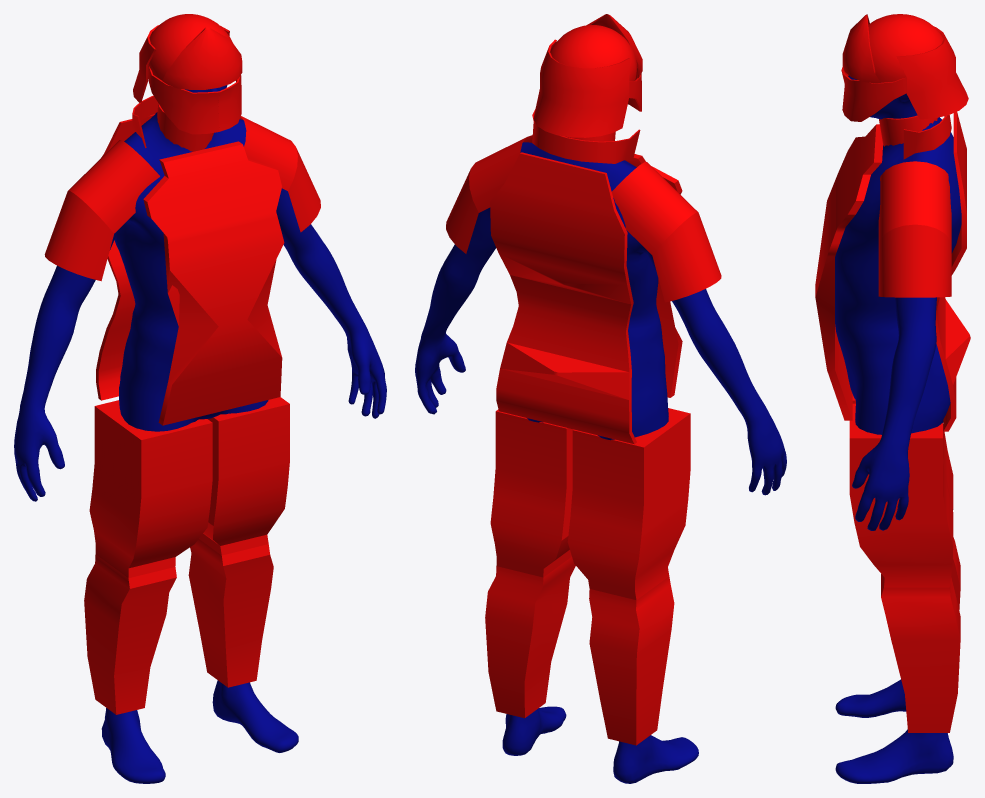
The model's file is knight.fbx.
The picture shows the model from 3 angles, left to right: view 1: azimuth 30°, elevation 25°; view 2: azimuth 150°, elevation 25°; view 3: azimuth 270°, elevation 25°; orthographic projection.
Visible parts, largest first — view 1: humanBody; view 2: humanBody; view 3: humanBody.
Boxes of the visible parts, x1=… form: humanBody: x1=14, y1=14, x2=386, y2=783; humanBody: x1=415, y1=14, x2=786, y2=783; humanBody: x1=815, y1=14, x2=970, y2=783.
Size of the model in its own units: 95.48 by 184 by 35.38.
